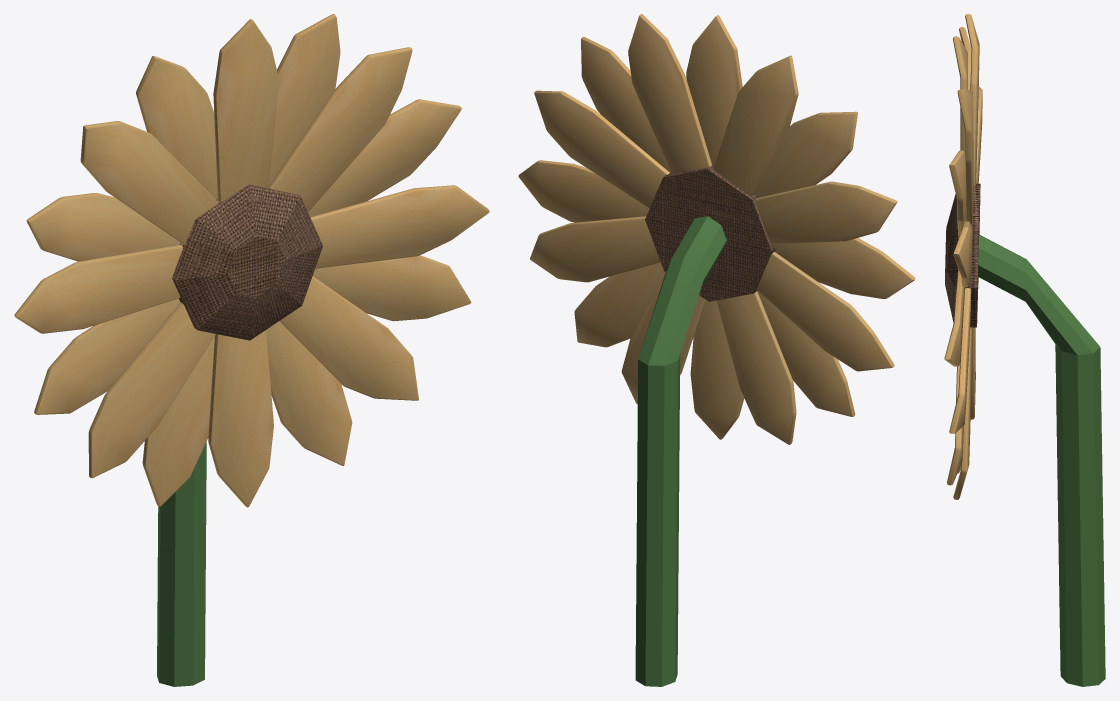
Rendered from sunflower.fbx.
The picture shows the model from 3 angles, left to right: view 1: azimuth 30°, elevation 25°; view 2: azimuth 150°, elevation 25°; view 3: azimuth 270°, elevation 25°; orthographic projection. The views are drawn at different scales.
Visible parts, largest first — view 1: Petals001, Ovule, Stem; view 2: Petals001, Ovule, Stem; view 3: Stem, Petals001, Ovule.
Boxes of the visible parts, left/top/right/bottom form: Petals001: left=14, top=14, right=489, bottom=507; Ovule: left=172, top=184, right=322, bottom=340; Stem: left=157, top=442, right=206, bottom=686; Petals001: left=518, top=14, right=915, bottom=444; Ovule: left=638, top=164, right=775, bottom=365; Stem: left=635, top=354, right=680, bottom=686; Stem: left=1055, top=344, right=1105, bottom=686; Petals001: left=944, top=14, right=982, bottom=499; Ovule: left=945, top=183, right=1099, bottom=355.
Size of the model in its own units: 113 by 165 by 37.65.
Materials: 3 (3 with a texture image).
